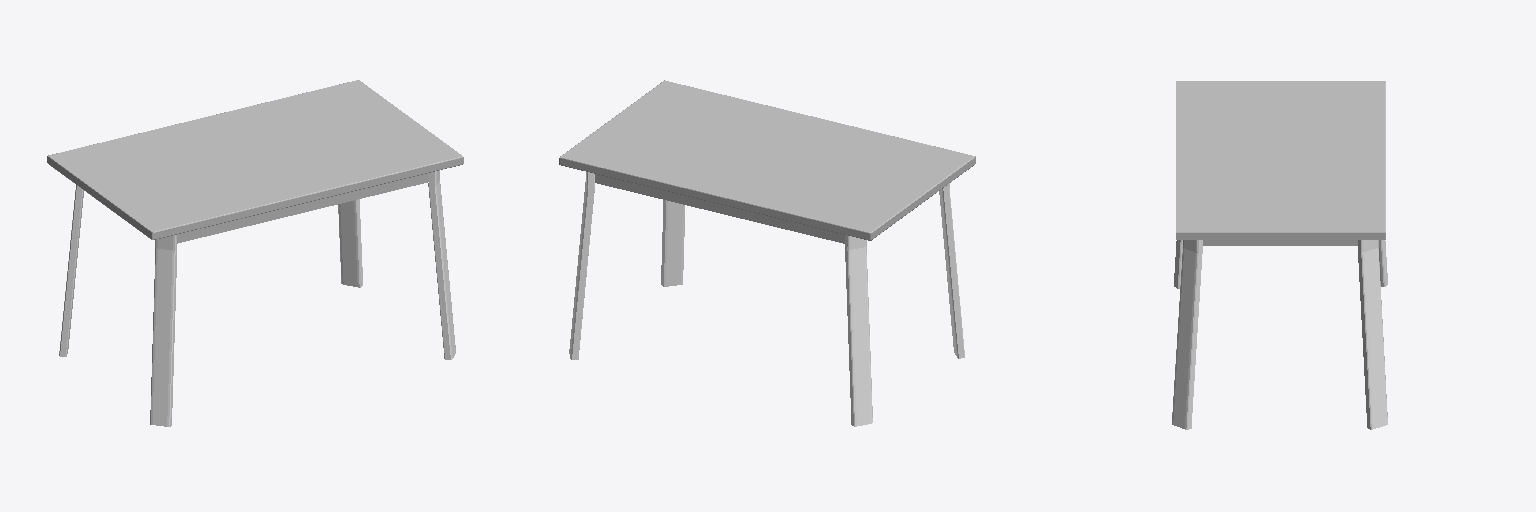
The model's file is Desk.obj.
3 views of the same model, side by side, from view 1: azimuth 30°, elevation 25°; view 2: azimuth 150°, elevation 25°; view 3: azimuth 270°, elevation 25° (orthographic).
Visible parts, largest first — view 1: Top, Leg:4, Under, Leg:2, Leg:1, Leg:3; view 2: Top, Leg:3, Under, Leg:1, Leg:2, Leg:4; view 3: Top, Leg:1, Leg:2, Under.
Boxes of the visible parts, box(x1,y1,x2,y2) form: Top: box(47, 80, 463, 239); Leg:4: box(150, 235, 176, 426); Under: box(177, 173, 428, 243); Leg:2: box(428, 170, 455, 359); Leg:1: box(338, 199, 362, 287); Leg:3: box(59, 185, 83, 356); Top: box(559, 80, 975, 240); Leg:3: box(845, 235, 872, 426); Under: box(595, 174, 844, 243); Leg:1: box(569, 172, 594, 359); Leg:2: box(661, 200, 684, 286); Leg:4: box(939, 183, 964, 358); Top: box(1176, 81, 1385, 239); Leg:1: box(1358, 240, 1387, 429); Leg:2: box(1172, 240, 1202, 429); Under: box(1203, 240, 1357, 245).
Size of the model in its own units: 396 by 242 by 238.